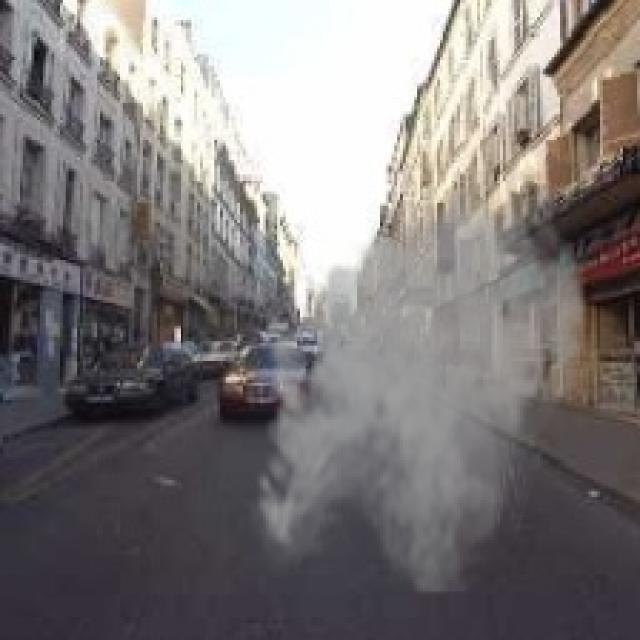smoke: (246, 172, 594, 597)
